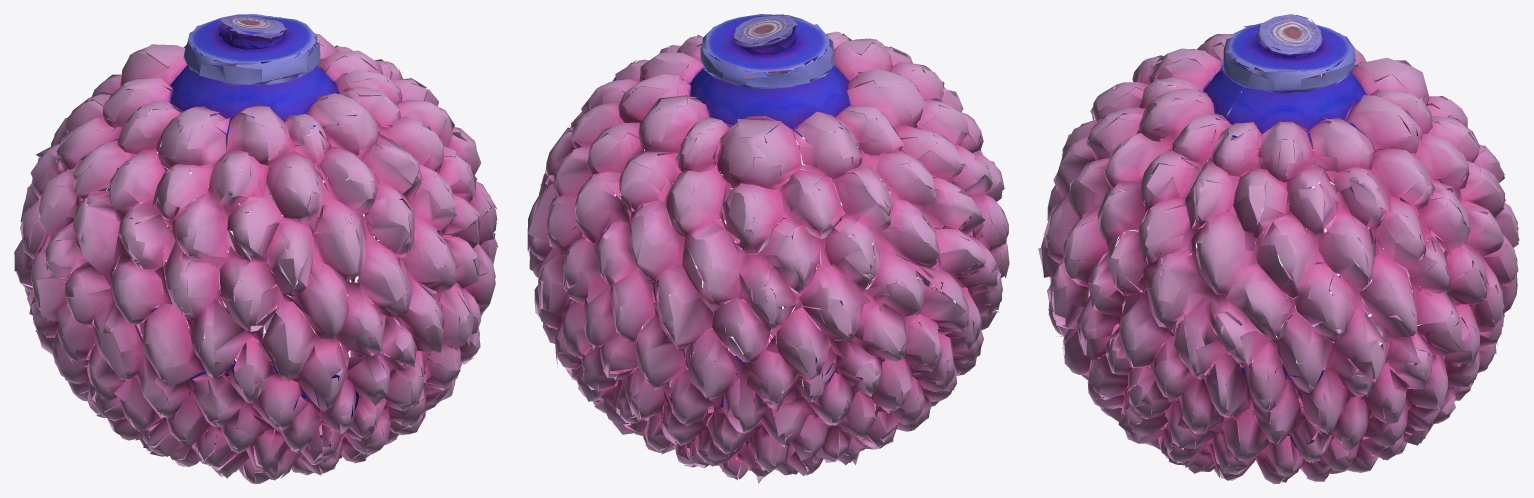
File: brush_p2.glb
The picture shows the model from 3 angles, left to right: view 1: azimuth 30°, elevation 25°; view 2: azimuth 150°, elevation 25°; view 3: azimuth 270°, elevation 25°; orthographic projection.
Visible parts, largest first — view 1: tripo_node_cfecd8cf-385e-44e2-a753-61456f7e329b; view 2: tripo_node_cfecd8cf-385e-44e2-a753-61456f7e329b; view 3: tripo_node_cfecd8cf-385e-44e2-a753-61456f7e329b.
Part boxes in pixels (left/top/right/bottom): tripo_node_cfecd8cf-385e-44e2-a753-61456f7e329b: left=14, top=14, right=498, bottom=483; tripo_node_cfecd8cf-385e-44e2-a753-61456f7e329b: left=527, top=14, right=1009, bottom=483; tripo_node_cfecd8cf-385e-44e2-a753-61456f7e329b: left=1038, top=14, right=1519, bottom=483.
Bounding box in the file's own units: 1.91 × 1.87 × 1.91.
Materials: 1 (1 with a texture image).
